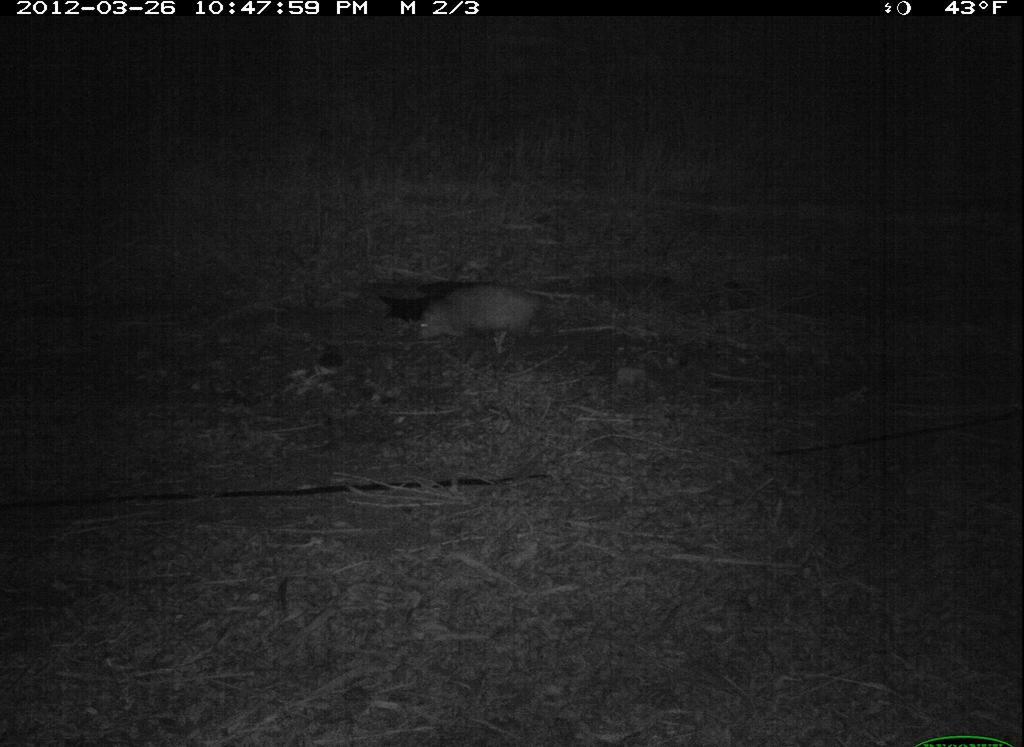opossum: (385, 263, 614, 373)
